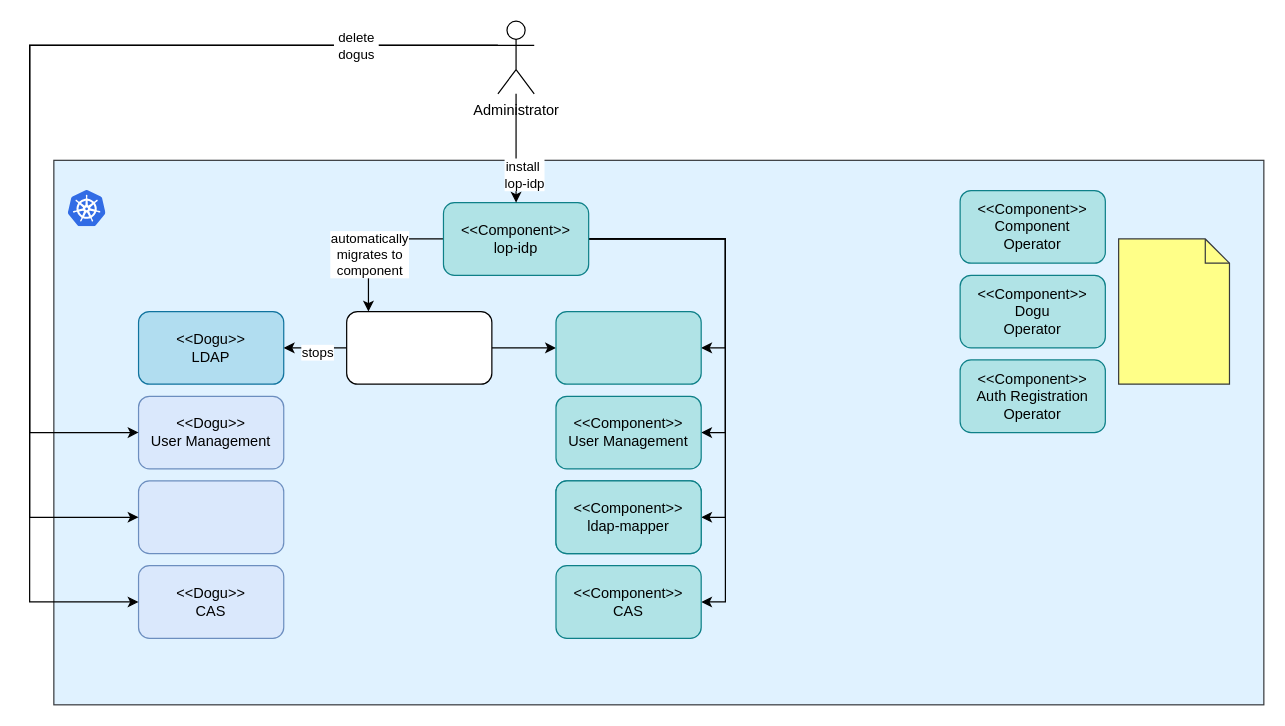
The diagram is 1285 pixels wide and 726 high, and some of its shapes have lost their labels. The shapes that lost their labels are listed below. From the top down, each one's centre as x and y in pixels, then its label:
(1173,311): must be present and configured to use the AuthRegistration Operator
(418,347): LDAP migration
(628,347): <<Component>> LDAP
(210,517): <<Dogu>> ldap-mapper
